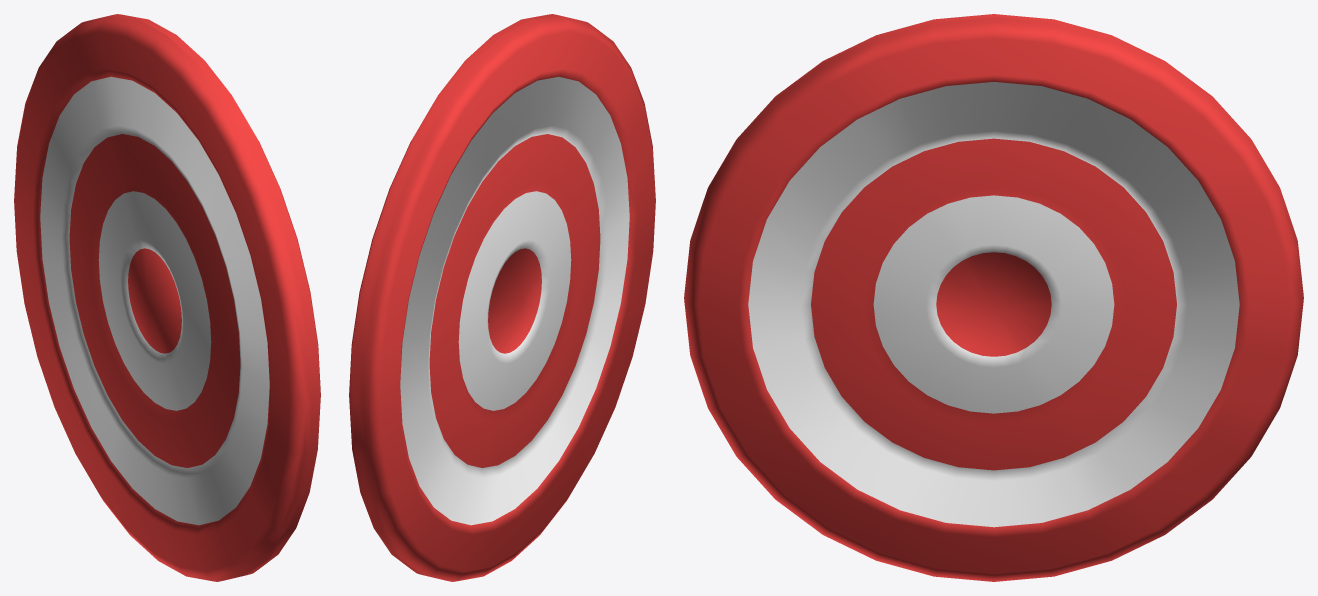
Rendered from target_model.fbx.
3 renders of one model, left to right at view 1: azimuth 30°, elevation 25°; view 2: azimuth 150°, elevation 25°; view 3: azimuth 270°, elevation 25°, orthographic. The views are drawn at different scales.
Parts seen in each view (by area): view 1: Cylinder2; view 2: Cylinder2; view 3: Cylinder2.
Part boxes in pixels (x1,y1,x2,y2): Cylinder2: (14,14,320,581); Cylinder2: (349,14,655,581); Cylinder2: (684,14,1303,581).
Size of the model in its own units: 1.55 by 19.87 by 19.87.
